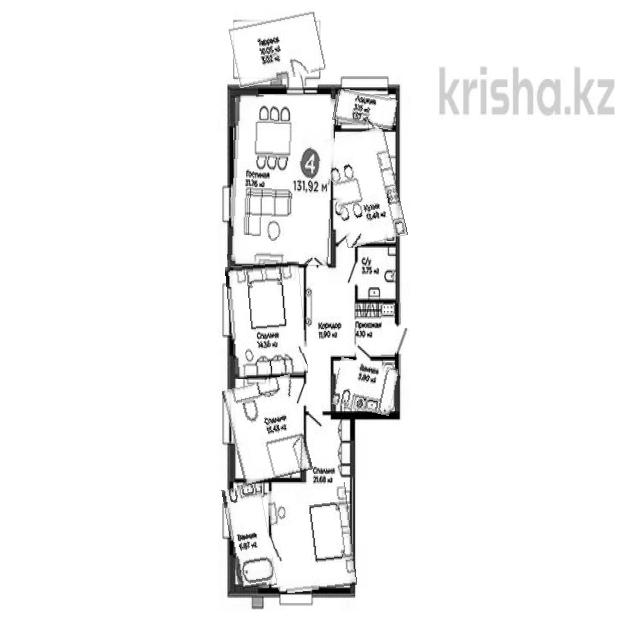balcony: (229, 10, 328, 84), (334, 90, 398, 129)
bathroom: (226, 485, 273, 590), (333, 360, 396, 414), (356, 246, 395, 304)
hallway: (308, 312, 396, 357)
kitchen: (329, 129, 403, 246)
living_room: (229, 95, 334, 264), (269, 484, 354, 592), (228, 262, 306, 377), (228, 378, 308, 483)
